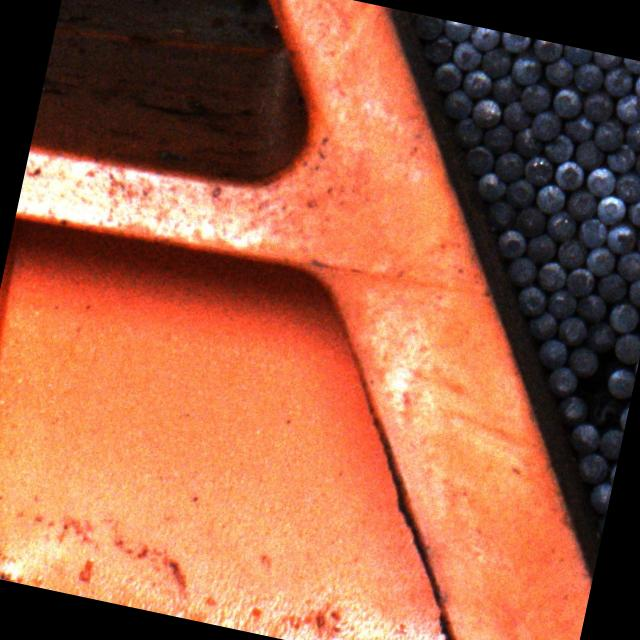tool: (492, 148, 526, 184), (512, 204, 548, 238), (554, 235, 588, 271), (480, 120, 514, 156), (591, 116, 625, 152), (450, 115, 484, 150), (582, 163, 616, 198), (508, 51, 542, 86), (584, 318, 617, 354), (544, 363, 578, 397), (568, 420, 602, 454), (606, 300, 640, 334), (554, 314, 588, 348), (551, 157, 585, 191), (502, 176, 536, 210), (564, 188, 598, 222), (582, 242, 616, 276), (544, 286, 577, 321), (544, 207, 577, 242), (524, 230, 556, 266), (440, 86, 473, 120), (504, 254, 537, 288), (515, 283, 548, 317), (575, 451, 608, 485), (489, 70, 522, 104), (518, 80, 551, 114), (499, 98, 532, 132), (421, 32, 454, 65), (535, 336, 568, 369), (603, 366, 636, 399), (469, 96, 501, 130), (556, 392, 588, 426), (574, 292, 606, 326), (604, 220, 636, 254), (460, 65, 492, 99), (513, 124, 545, 158), (526, 308, 558, 341), (595, 271, 627, 304), (522, 153, 554, 186), (593, 193, 625, 226), (576, 215, 608, 248), (542, 130, 574, 163), (604, 140, 636, 173), (551, 86, 582, 120), (611, 329, 640, 365), (463, 144, 495, 176), (475, 170, 507, 202), (484, 199, 516, 231), (495, 226, 527, 258), (534, 182, 566, 214), (478, 45, 509, 78), (529, 109, 560, 142), (536, 258, 566, 292), (564, 264, 594, 298), (572, 60, 603, 92), (582, 90, 613, 122), (612, 169, 640, 204), (432, 60, 462, 92), (568, 345, 598, 377), (544, 54, 574, 86), (562, 112, 594, 142), (602, 66, 632, 98), (595, 426, 624, 459), (586, 479, 612, 514), (451, 40, 481, 70), (614, 248, 640, 281), (574, 138, 602, 168), (411, 13, 442, 40), (614, 92, 640, 124), (468, 26, 498, 52), (531, 38, 560, 62), (440, 20, 470, 42), (560, 45, 592, 65), (499, 32, 529, 53), (623, 119, 640, 152), (590, 51, 619, 70), (625, 273, 640, 308), (625, 195, 640, 226), (620, 57, 640, 75), (631, 70, 640, 103), (633, 147, 640, 179)
tool_b: (582, 389, 624, 434)
void: (572, 372, 607, 401)
